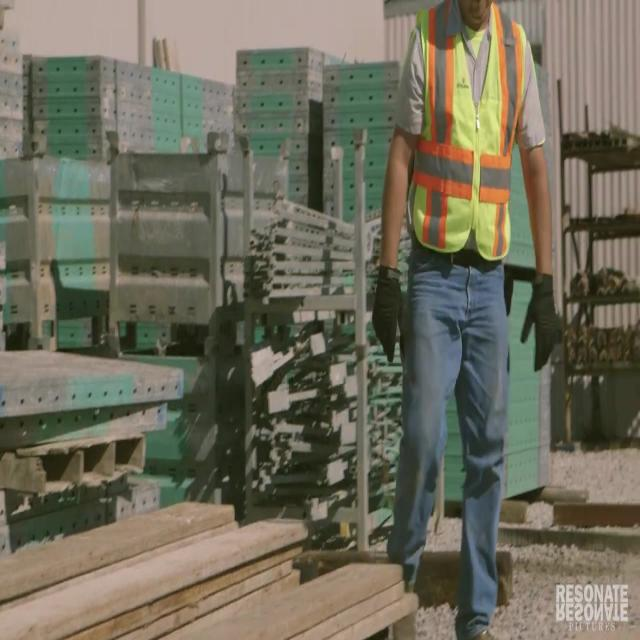Reflective-Jacket: (383, 5, 544, 284)
